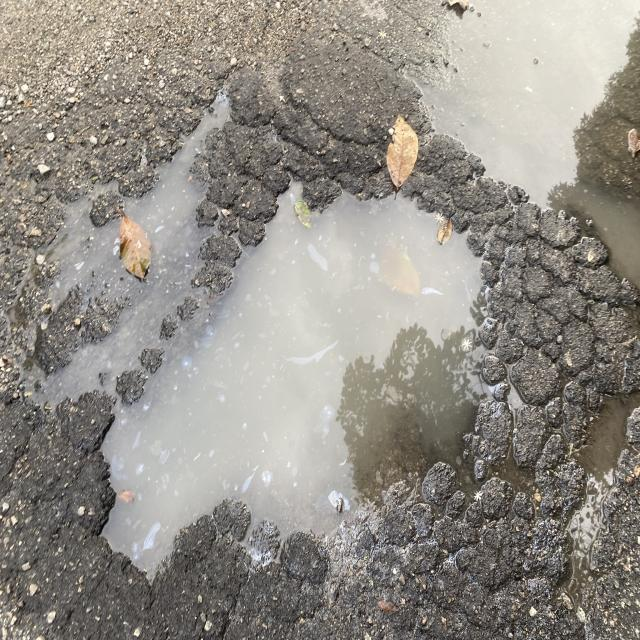pothole: (8, 92, 582, 529)
